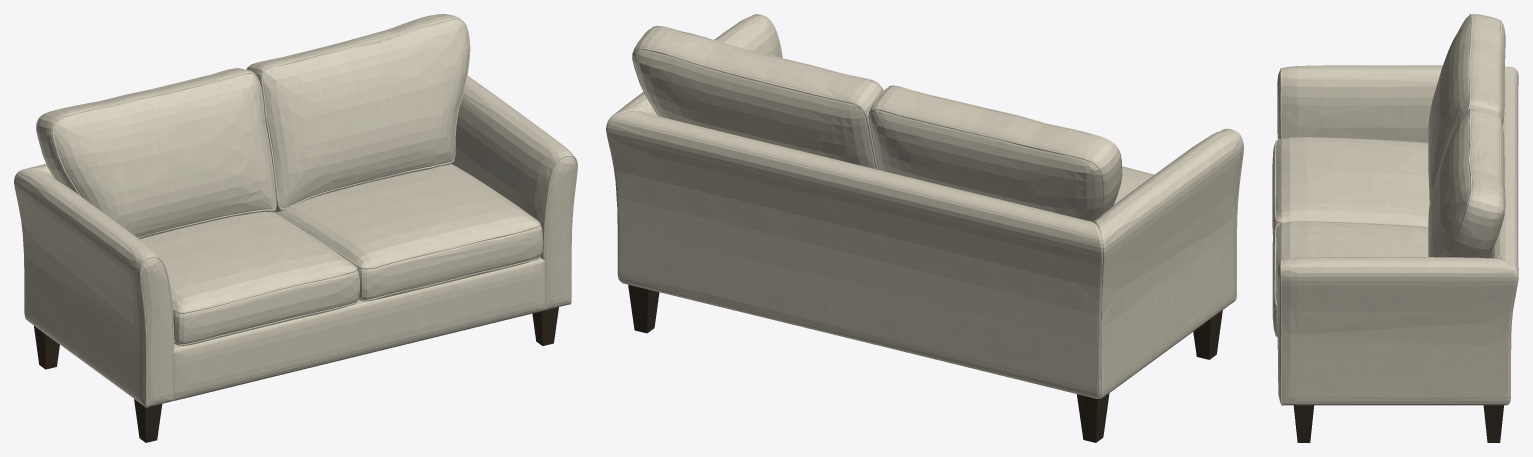
3 views of the same model, side by side, from view 1: azimuth 30°, elevation 25°; view 2: azimuth 150°, elevation 25°; view 3: azimuth 270°, elevation 25° (orthographic). The views are drawn at different scales.
Visible parts, largest first — view 1: Mesh_0; view 2: Mesh_0; view 3: Mesh_0.
Part boxes in pixels (x1,y1,x2,y2): Mesh_0: (14, 14, 577, 442); Mesh_0: (606, 14, 1243, 442); Mesh_0: (1272, 14, 1518, 442).
Size of the model in its own units: 1.67 by 0.9401 by 0.85.
Materials: 1 (1 with a texture image).
